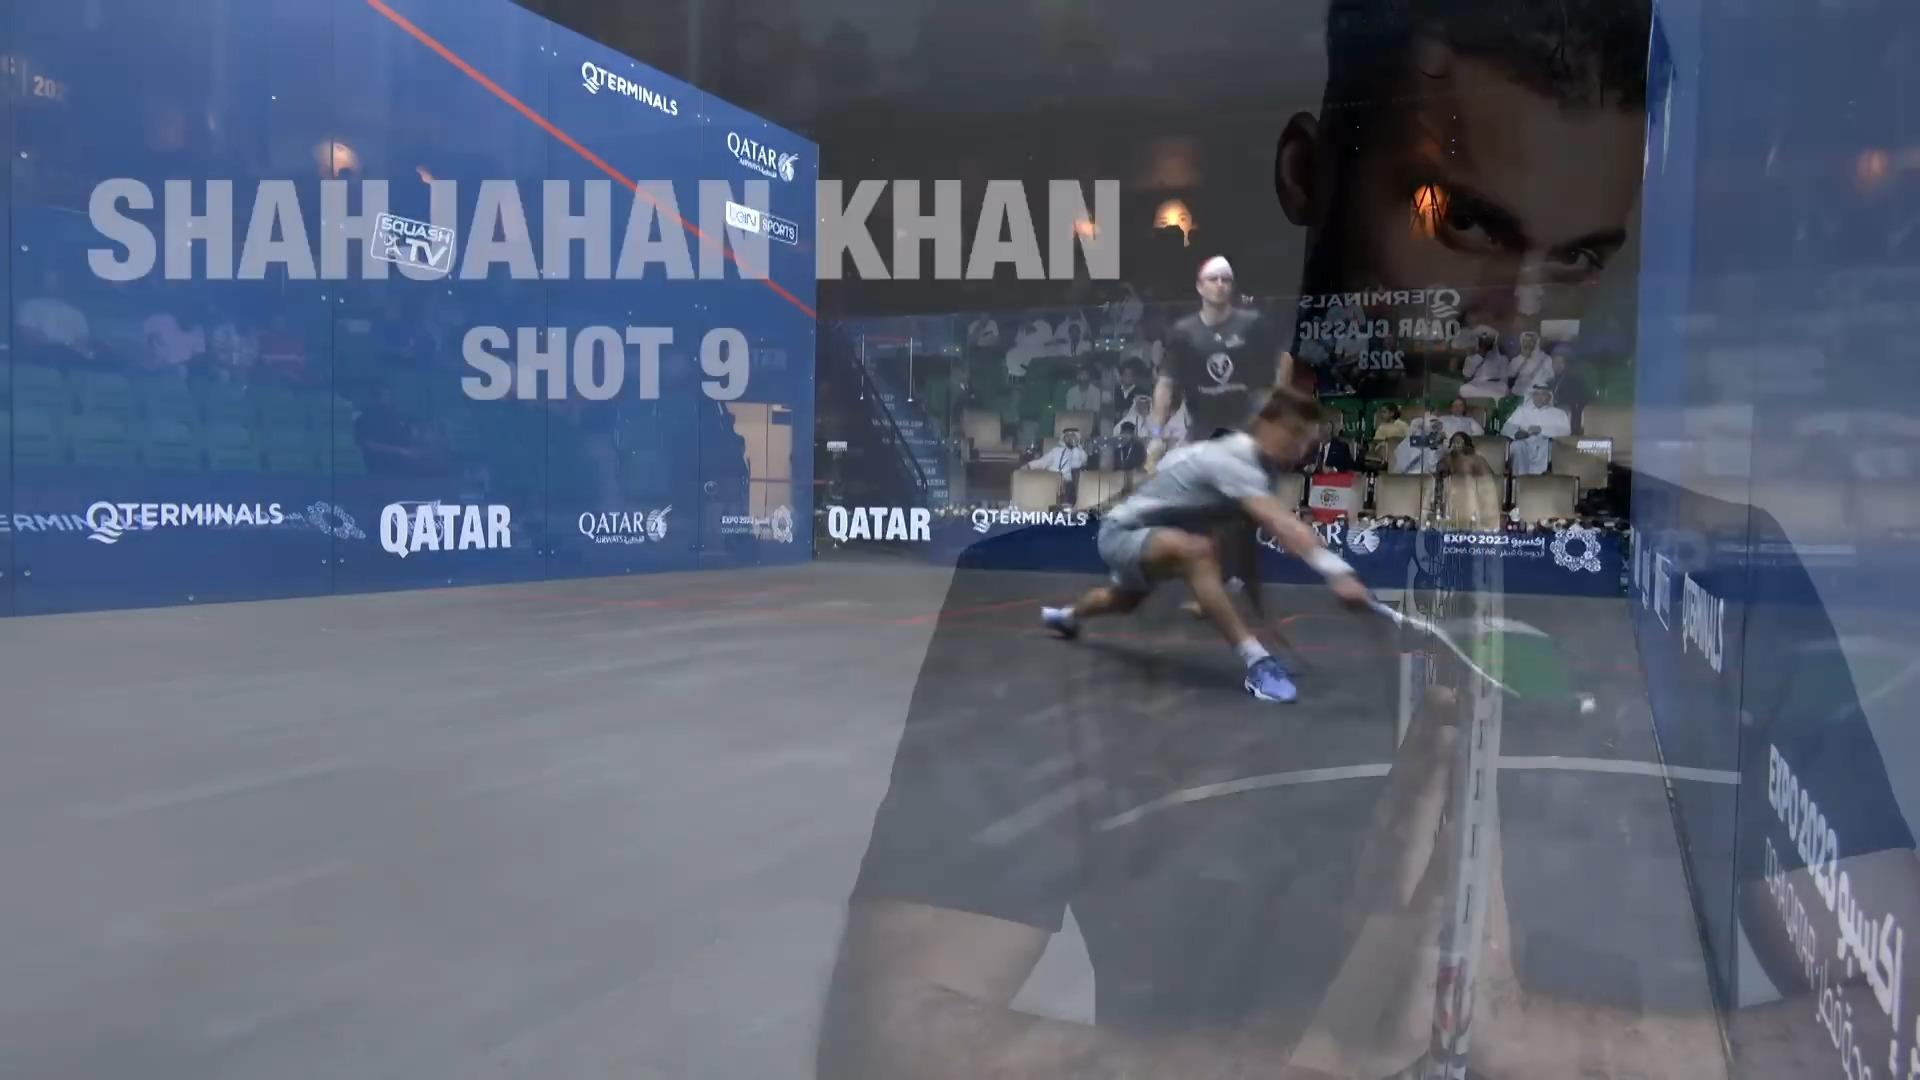Racket: (1370, 597, 1563, 703)
